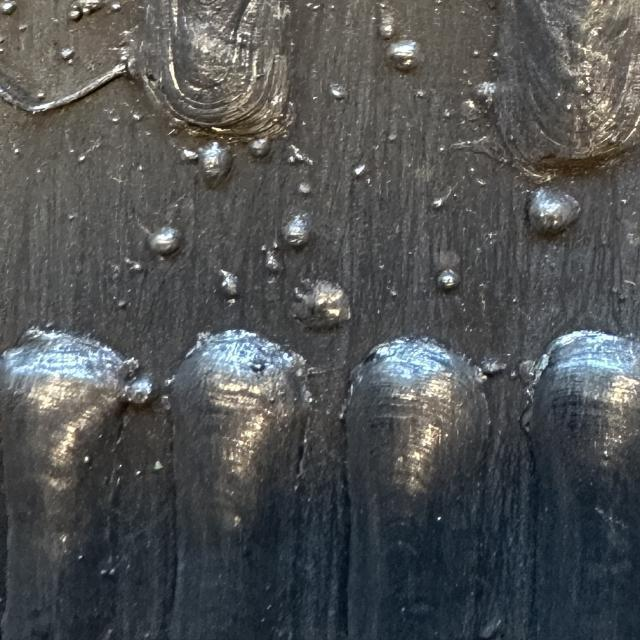Excess Reinforcement: (285, 354, 305, 479), (122, 380, 152, 404), (265, 252, 285, 278), (488, 358, 504, 376)
Spatters: (284, 215, 307, 248), (440, 269, 458, 297), (222, 272, 236, 298), (56, 44, 76, 62), (467, 99, 482, 121), (72, 2, 88, 22), (1, 1, 18, 19), (332, 84, 344, 103), (354, 168, 367, 184), (432, 195, 443, 213), (382, 22, 392, 40)
